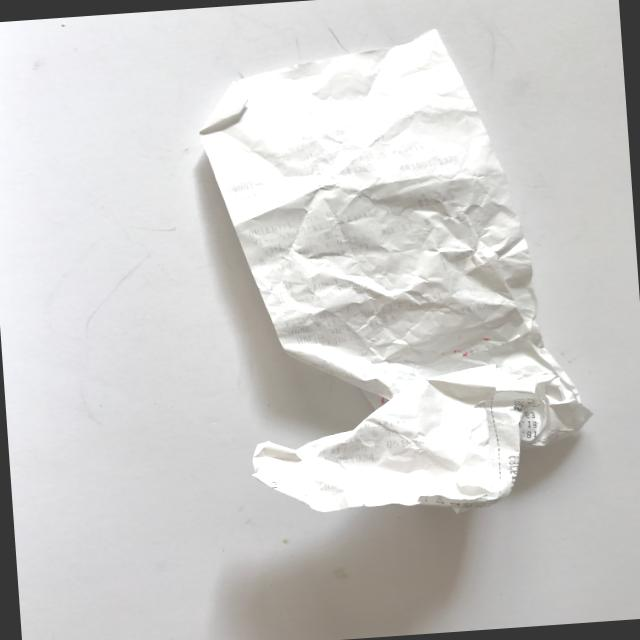Paper: (191, 16, 595, 523)
